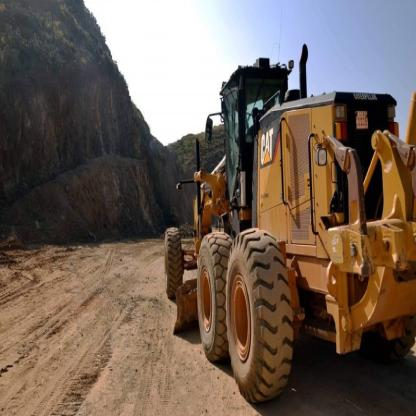bull_dozer/loader/grader: (145, 42, 416, 378)
